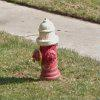Hydrant: (28, 13, 76, 97)
